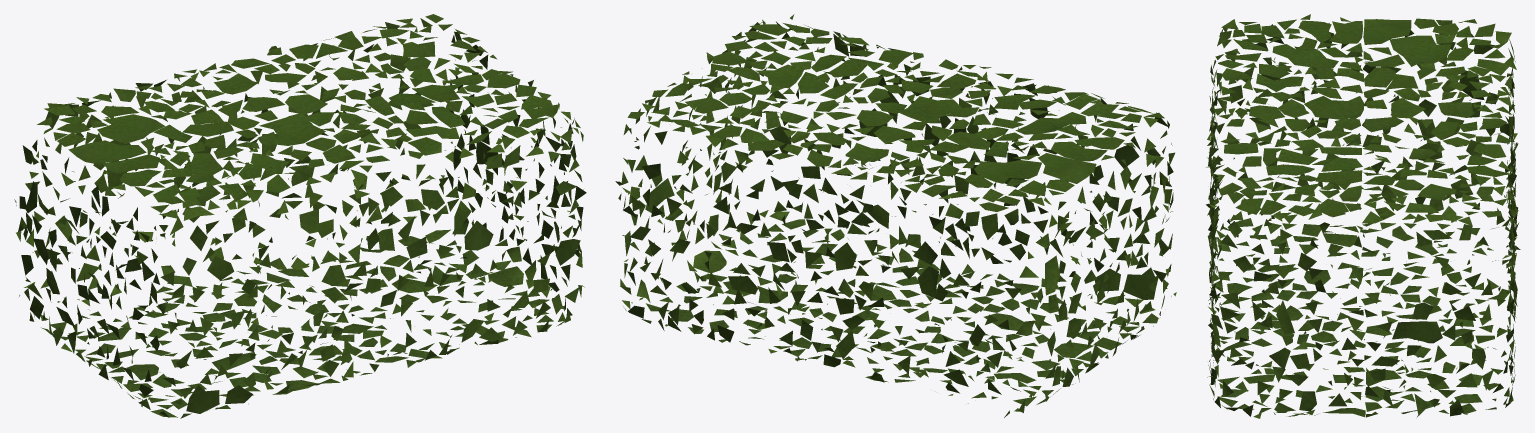
Rendered from hedge.glb.
3 views of the same model, side by side, from view 1: azimuth 30°, elevation 25°; view 2: azimuth 150°, elevation 25°; view 3: azimuth 270°, elevation 25° (orthographic).
Visible parts, largest first — view 1: Mesh_0; view 2: Mesh_0; view 3: Mesh_0.
Part boxes in pixels (left/top/right/bottom): Mesh_0: left=14, top=14, right=586, bottom=418; Mesh_0: left=615, top=14, right=1176, bottom=417; Mesh_0: left=1206, top=14, right=1520, bottom=418.
Bounding box in the file's own units: 1.87 × 0.8834 × 1.19.
Materials: 1 (1 with a texture image).
